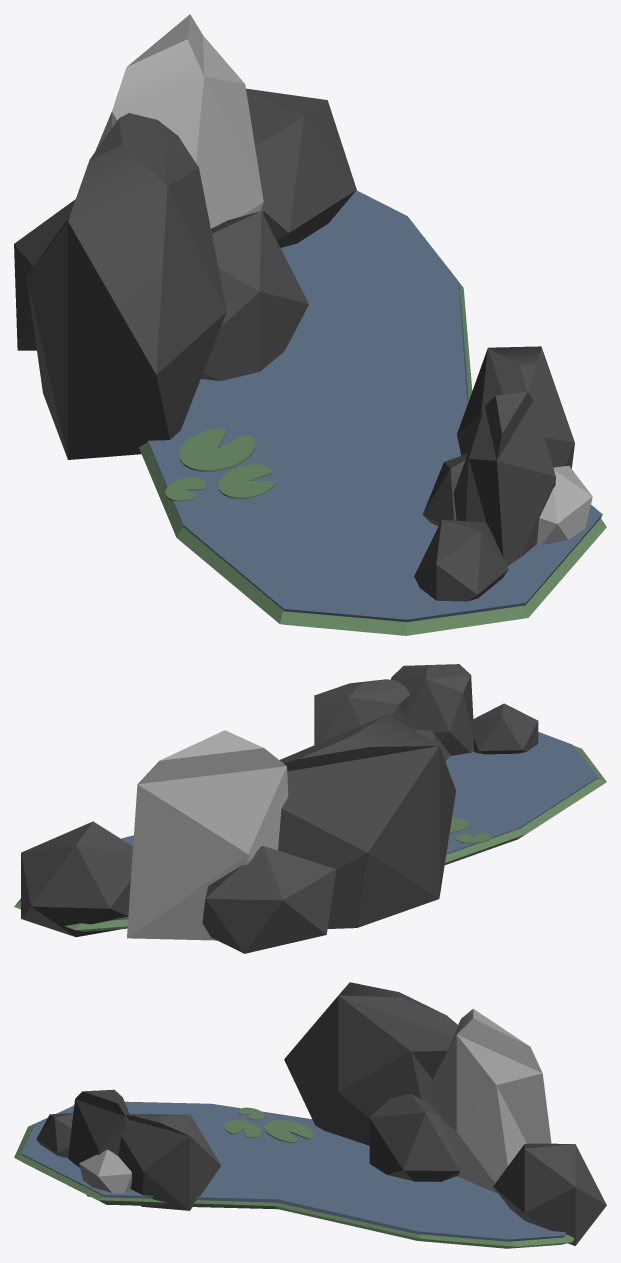
Rendered from pond.fbx.
The picture shows the model from 3 angles, top to bottom: view 1: azimuth 30°, elevation 25°; view 2: azimuth 150°, elevation 25°; view 3: azimuth 270°, elevation 25°; orthographic projection. The views are drawn at different scales.
Visible parts, largest first — view 1: water, pPlatonic4 (×2), pPlatonic2 (×2), pPlatonic1 (×2), pPlatonic3 (×2), pond, pPlatonic5 (×2), polySurface1, polySurface3; view 2: pPlatonic4 (×2), pPlatonic2 (×2), pPlatonic1 (×2), pPlatonic5, water, pond; view 3: water, pPlatonic4 (×2), pPlatonic2 (×2), pPlatonic1 (×2), pPlatonic3, pond, pPlatonic5, polySurface1, polySurface3.
Part boxes in pixels (bbox=[...]): water: bbox=[148, 190, 602, 622]; pPlatonic4 (×2): bbox=[26, 113, 574, 468]; pPlatonic2 (×2): bbox=[95, 14, 555, 565]; pPlatonic1 (×2): bbox=[246, 88, 508, 601]; pPlatonic3 (×2): bbox=[201, 211, 467, 526]; pond: bbox=[139, 282, 606, 635]; pPlatonic5 (×2): bbox=[14, 199, 592, 544]; polySurface1: bbox=[179, 428, 254, 471]; polySurface3: bbox=[218, 464, 274, 498]; pPlatonic4 (×2): bbox=[278, 679, 455, 928]; pPlatonic2 (×2): bbox=[127, 664, 473, 940]; pPlatonic1 (×2): bbox=[21, 703, 538, 937]; pPlatonic5: bbox=[202, 846, 336, 953]; water: bbox=[112, 732, 597, 920]; pond: bbox=[14, 746, 606, 931]; water: bbox=[21, 1101, 566, 1241]; pPlatonic4 (×2): bbox=[118, 982, 458, 1210]; pPlatonic2 (×2): bbox=[68, 1008, 551, 1193]; pPlatonic1 (×2): bbox=[36, 1113, 606, 1245]; pPlatonic3: bbox=[369, 1093, 459, 1181]; pond: bbox=[14, 1113, 574, 1248]; pPlatonic5: bbox=[79, 1149, 132, 1196]; polySurface1: bbox=[264, 1120, 313, 1142]; polySurface3: bbox=[223, 1120, 262, 1137].
Size of the model in its own units: 66.67 by 36.52 by 117.
